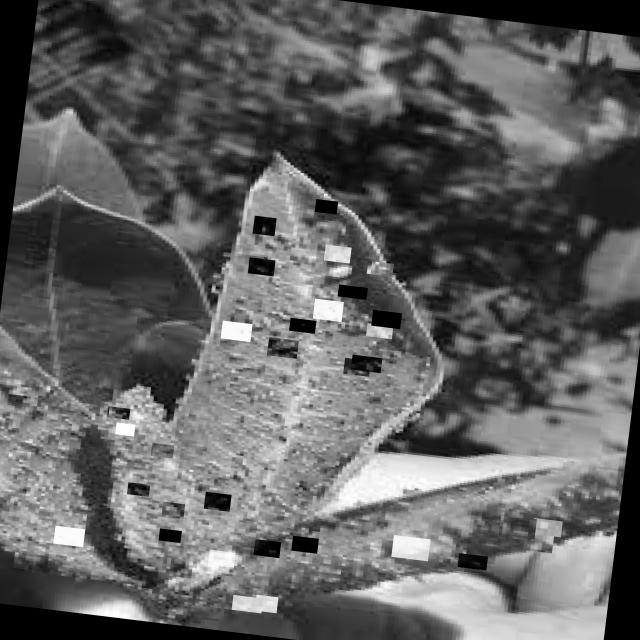aphid: (390, 534, 429, 560), (497, 514, 535, 540), (12, 550, 48, 572), (219, 319, 251, 342), (312, 298, 342, 322), (266, 336, 298, 358), (52, 525, 84, 547), (349, 354, 381, 373), (230, 594, 262, 613), (522, 532, 552, 552), (530, 518, 562, 536), (246, 256, 274, 276), (202, 491, 230, 511), (167, 558, 195, 578), (252, 538, 280, 558), (370, 310, 400, 328), (456, 552, 486, 570), (341, 357, 369, 376), (322, 244, 349, 263), (250, 215, 274, 236), (290, 535, 318, 553), (206, 549, 233, 567), (252, 594, 276, 613), (336, 284, 366, 299), (364, 322, 392, 338), (365, 260, 392, 276), (287, 317, 314, 333), (160, 501, 184, 519), (149, 442, 172, 458), (314, 198, 336, 214), (157, 528, 180, 542), (125, 482, 148, 496), (105, 406, 128, 420), (114, 422, 134, 436)
